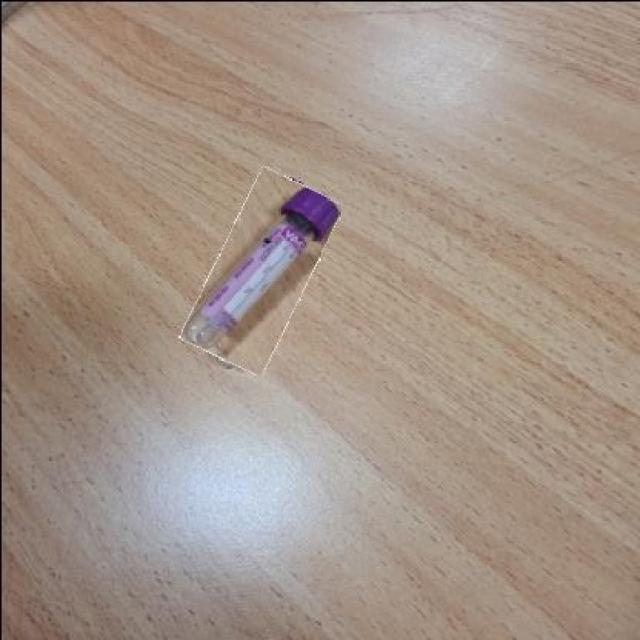Experimental-tube: (195, 170, 323, 372)
